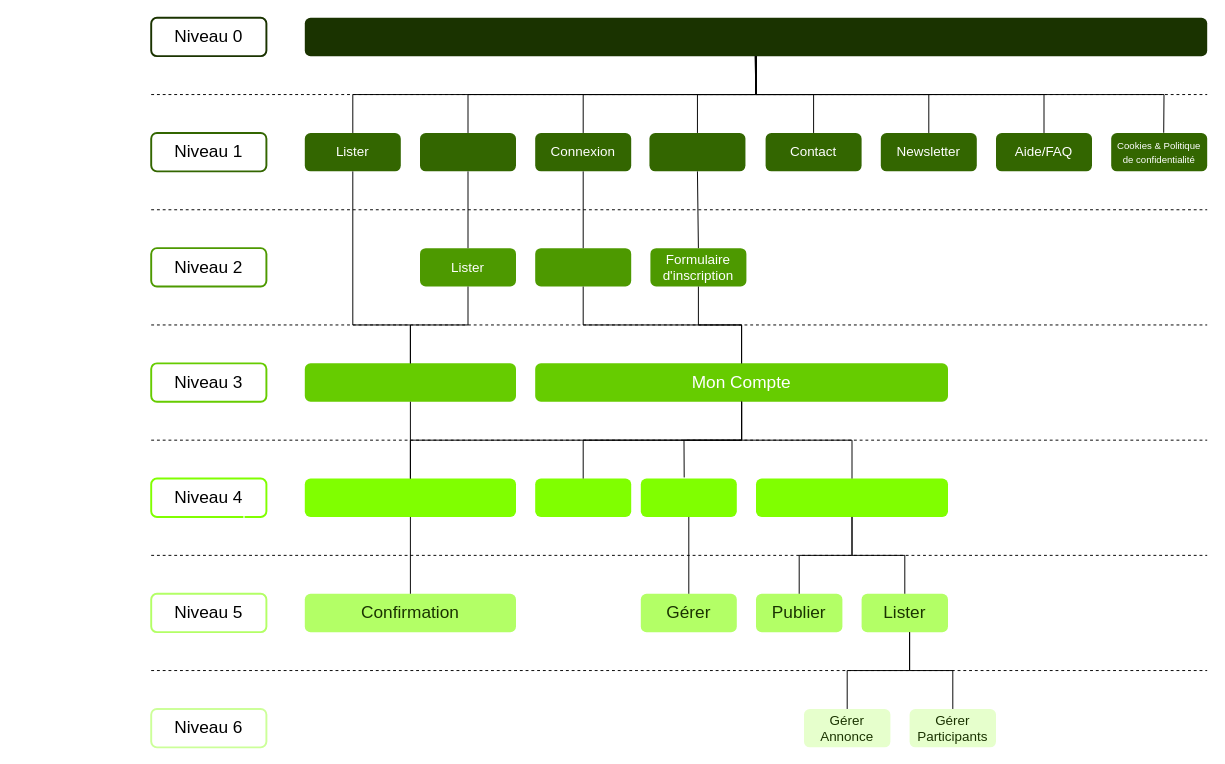
Some shapes in this 1225 by 764 pixel diagram are drawn without their labels. Here are the shapes that lost their labels. From the top down, the centre of each, then its label:
[755,36]: Page d'accueil
[468,151]: Rechercher
[697,151]: Inscription
[583,267]: Formulaire de connexion
[410,382]: Détails
[410,497]: Réservation & Paiement
[583,497]: Mes Informations
[688,497]: Mes Réservations
[852,497]: Back-Office Organisateur
